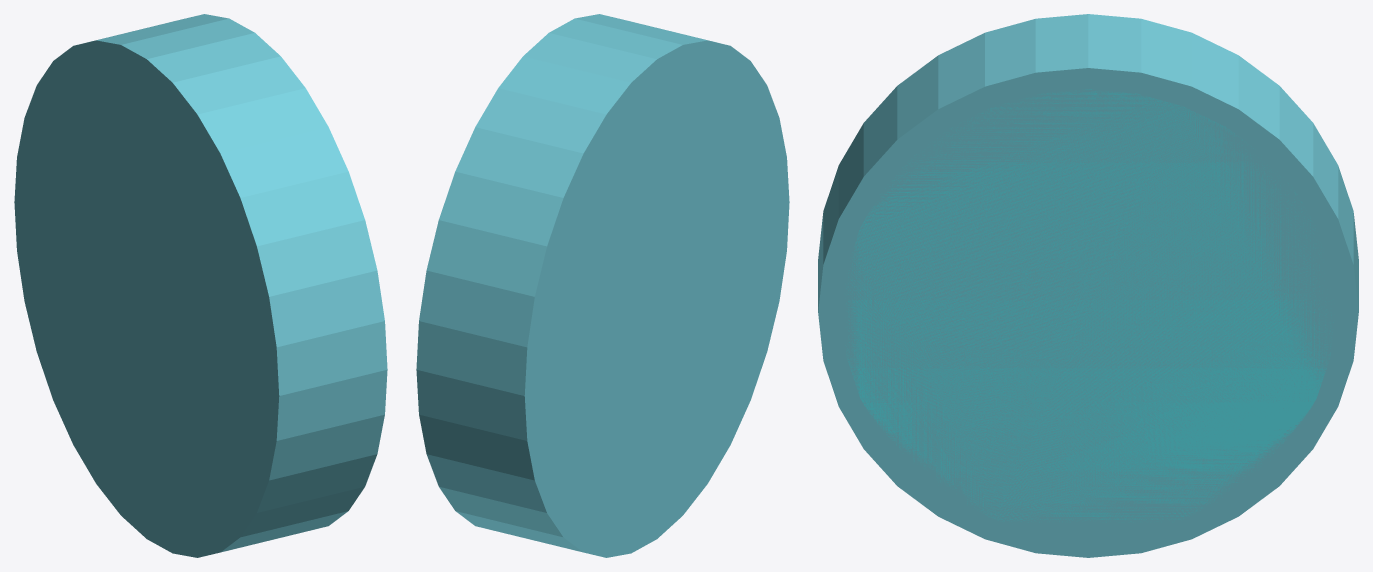
Rendered from splitter.glb.
3 views of the same model, side by side, from view 1: azimuth 30°, elevation 25°; view 2: azimuth 150°, elevation 25°; view 3: azimuth 270°, elevation 25° (orthographic). The views are drawn at different scales.
Parts seen in each view (by area): view 1: splitter; view 2: splitter; view 3: splitter.
Boxes of the visible parts, left/top/right/bottom form: splitter: left=14, top=14, right=387, bottom=557; splitter: left=416, top=14, right=789, bottom=557; splitter: left=818, top=14, right=1358, bottom=557.
Bounding box in the file's own units: 3 × 12.7 × 12.7.
